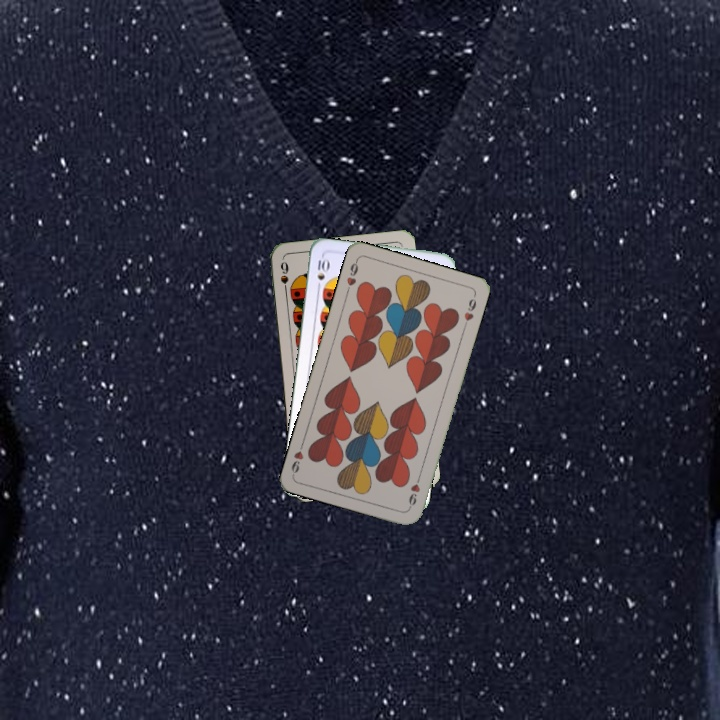H9: (342, 256, 361, 296), (404, 471, 423, 511)
S10: (313, 255, 331, 293)
S9: (276, 257, 291, 298)
